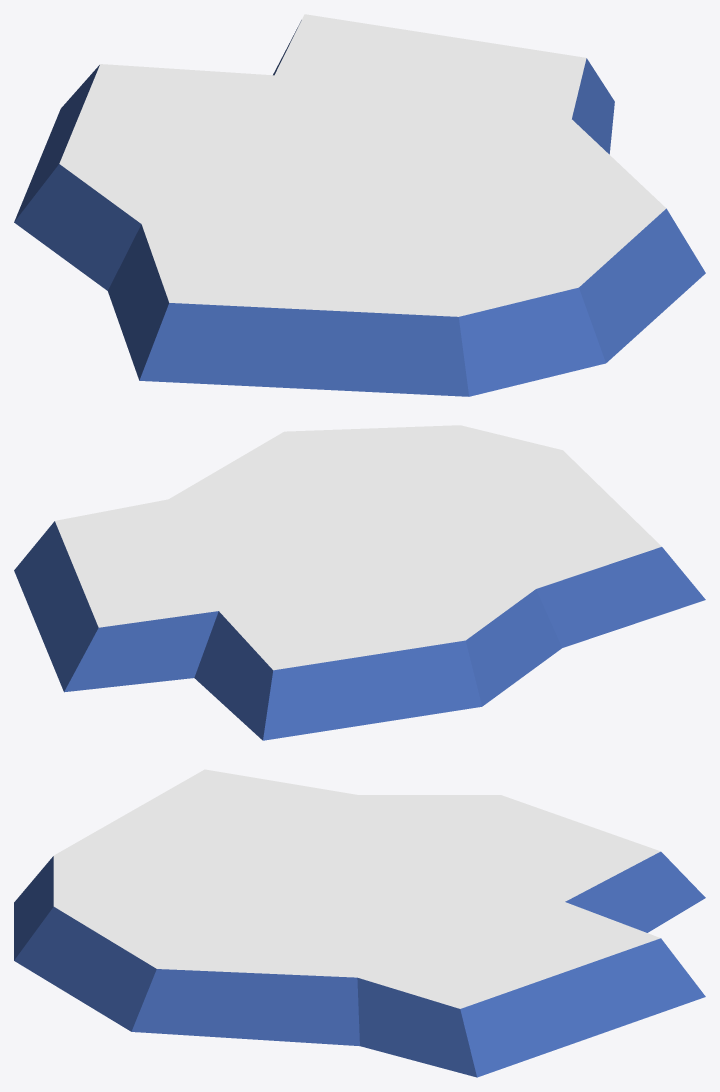
The model's file is Rock006.fbx.
3 views of the same model, one above another, from view 1: azimuth 30°, elevation 25°; view 2: azimuth 150°, elevation 25°; view 3: azimuth 270°, elevation 25° (orthographic). The views are drawn at different scales.
Parts seen in each view (by area): view 1: Rock006; view 2: Rock006; view 3: Rock006.
Part boxes in pixels (x1,y1,x2,y2): Rock006: (14, 14, 705, 396); Rock006: (14, 425, 705, 740); Rock006: (14, 769, 705, 1077).
Bounding box in the file's own units: 125 × 11.23 × 134.
